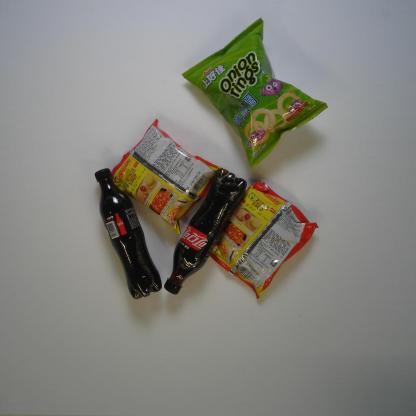Drink: (164, 167, 247, 295), (94, 167, 163, 300)
Instant Noodles: (111, 118, 223, 235), (208, 182, 319, 300)
Puffed Food: (182, 17, 328, 169)
